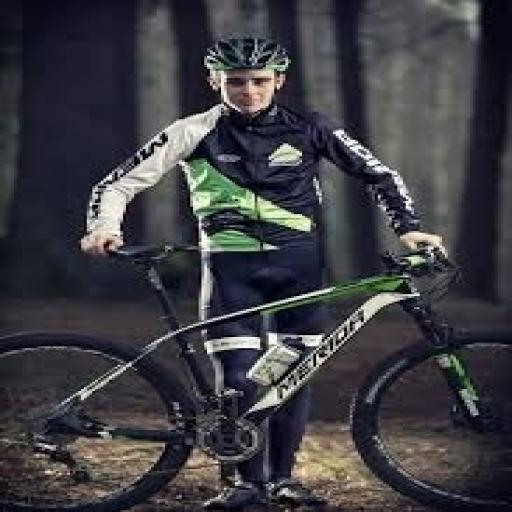cycling: (76, 34, 450, 510)
